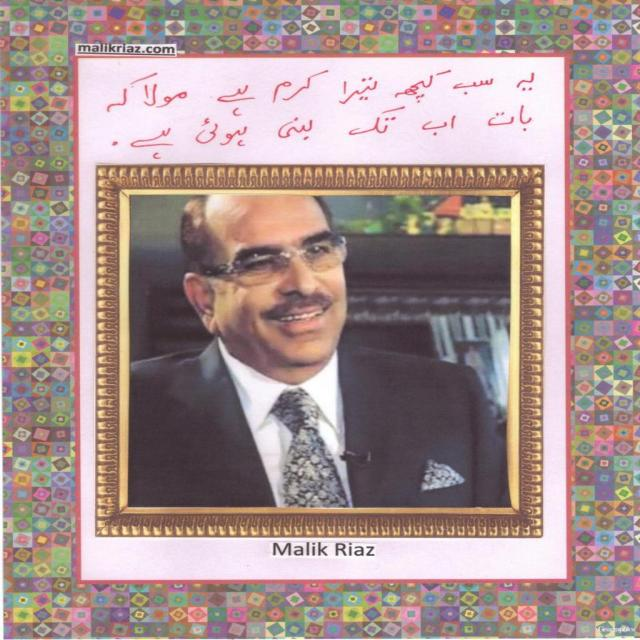nomask: (212, 196, 346, 364)
